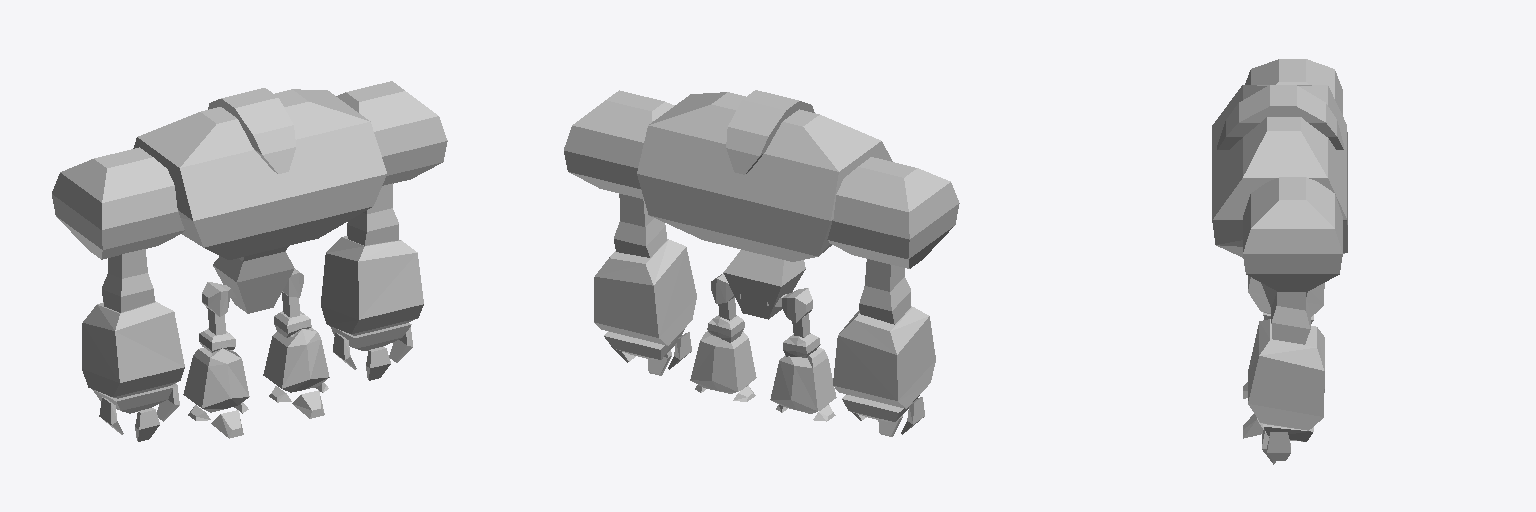
File: robot.obj
The picture shows the model from 3 angles: view 1: azimuth 30°, elevation 25°; view 2: azimuth 150°, elevation 25°; view 3: azimuth 270°, elevation 25°; orthographic projection.
Parts seen in each view (by area): view 1: body, body right_shoulder, body left_shoulder elbow forearm, body right_shoulder right_elbow right_forearm, body left_shoulder, body head, body spine, body spine right_hip right_thigh right_knee right_shin, body spine left_hip left_thigh left_knee left_shin, body right_shoulder right_elbow, body left_shoulder elbow, body right_shoulder right_elbow right_forearm right_hand_joint r (+8 smaller); view 2: body, body right_shoulder, body left_shoulder elbow forearm, body right_shoulder right_elbow right_forearm, body left_shoulder, body head, body spine, body spine right_hip right_thigh right_knee right_shin, body spine left_hip left_thigh left_knee left_shin, body right_shoulder right_elbow, body left_shoulder elbow, body left_shoulder elbow forearm hand_joint (+5 smaller); view 3: body, body left_shoulder, body left_shoulder elbow forearm, body head, body right_shoulder, body left_shoulder elbow, body right_shoulder right_elbow right_forearm, body left_shoulder elbow forearm hand_joint left_thumb.
Part boxes in pixels (x1,y1,x2,y2): body: (133,89,386,259); body right_shoulder: (52,147,184,259); body left_shoulder elbow forearm: (321,236,423,335); body right_shoulder right_elbow right_forearm: (82,301,184,398); body left_shoulder: (336,81,447,185); body head: (208,88,295,173); body spine: (213,246,294,313); body spine right_hip right_thigh right_knee right_shin: (183,348,249,412); body spine left_hip left_thigh left_knee left_shin: (263,327,329,392); body right_shoulder right_elbow: (102,249,154,312); body left_shoulder elbow: (347,183,398,245); body right_shoulder right_elbow right_forearm right_hand_joint r: (99,383,179,441); body: (637,92,892,261); body right_shoulder: (827,157,959,268); body left_shoulder elbow forearm: (594,239,696,345); body right_shoulder right_elbow right_forearm: (833,306,935,408); body left_shoulder: (564,90,674,198); body head: (726,90,814,174); body spine: (723,250,805,319); body spine right_hip right_thigh right_knee right_shin: (770,347,836,413); body spine left_hip left_thigh left_knee left_shin: (690,331,756,393); body right_shoulder right_elbow: (859,259,910,324); body left_shoulder elbow: (614,194,666,257); body left_shoulder elbow forearm hand_joint: (604,329,684,359); body: (1212,85,1347,257); body left_shoulder: (1243,177,1342,291); body left_shoulder elbow forearm: (1248,319,1324,430); body head: (1217,85,1343,149); body right_shoulder: (1245,59,1342,114); body left_shoulder elbow: (1271,292,1310,344); body right_shoulder right_elbow right_forearm: (1248,276,1324,316); body left_shoulder elbow forearm hand_joint left_thumb: (1267,432,1290,460).
Size of the model in its own units: 14.78 by 12.9 by 5.02.